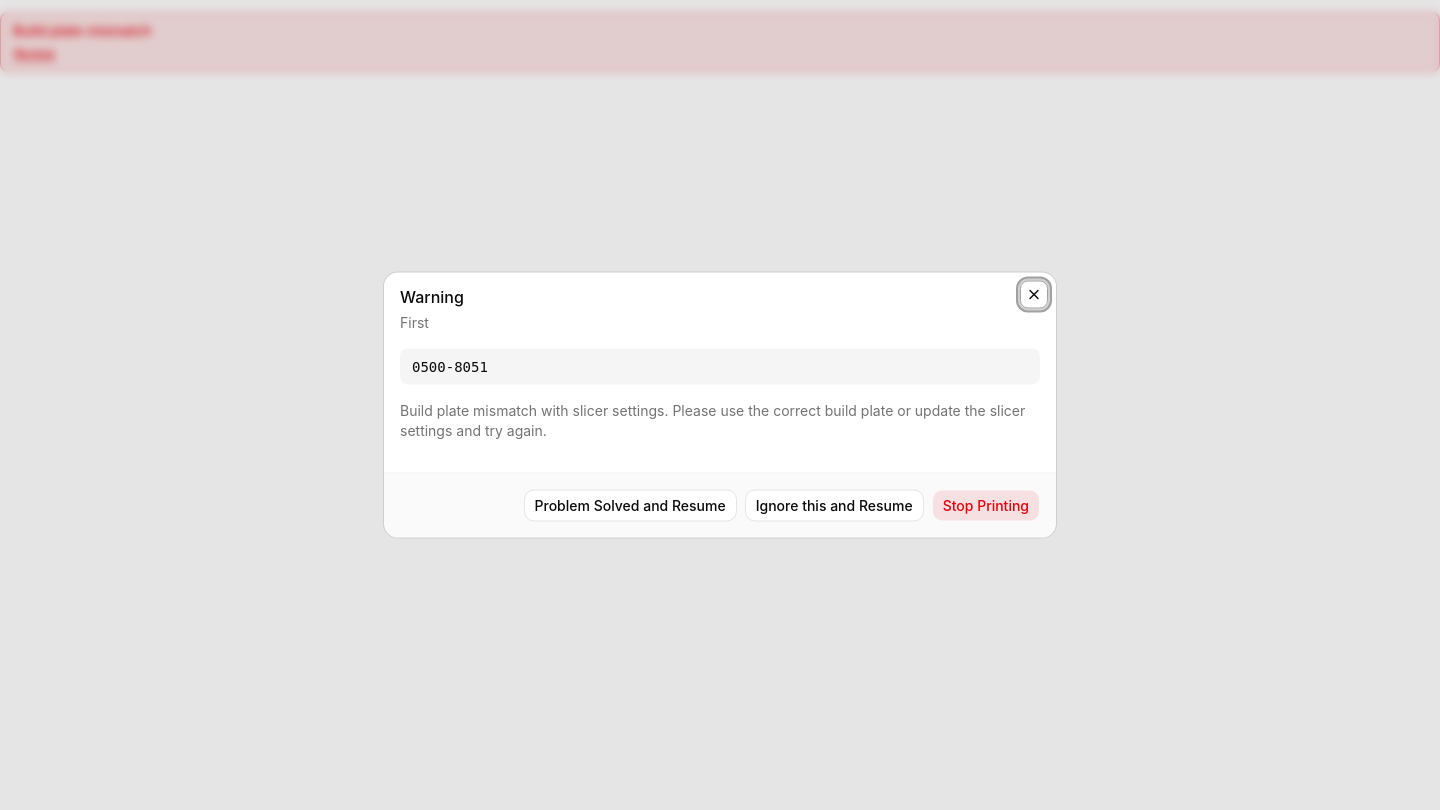
Test: PrinterMismatchCoordinator › deduplicates pending submission, sends only occurrence fields, and leaves the warning after sent
Click the button "Problem Solved and Resume".
click(630, 506)  # box [524,490,737,522]
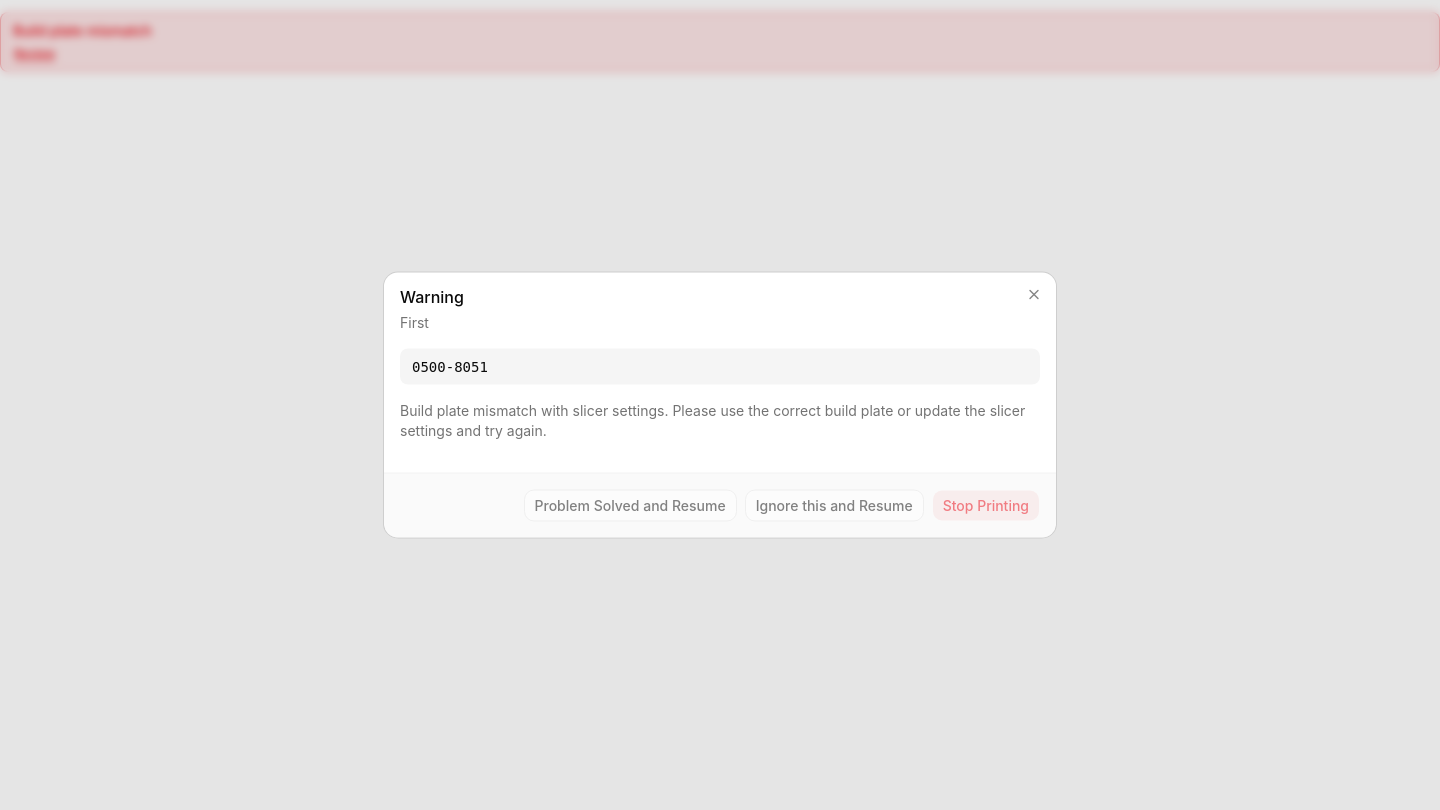
Now the button named "Close mismatch dialog" is disabled, box [1020,280,1048,308]
Now the button "Problem Solved and Resume" is disabled
Now the button "Ignore this and Resume" is disabled, box [745,490,924,522]
Click the button "Problem Solved and Resume".
click(630, 506)  # box [524,490,737,522]
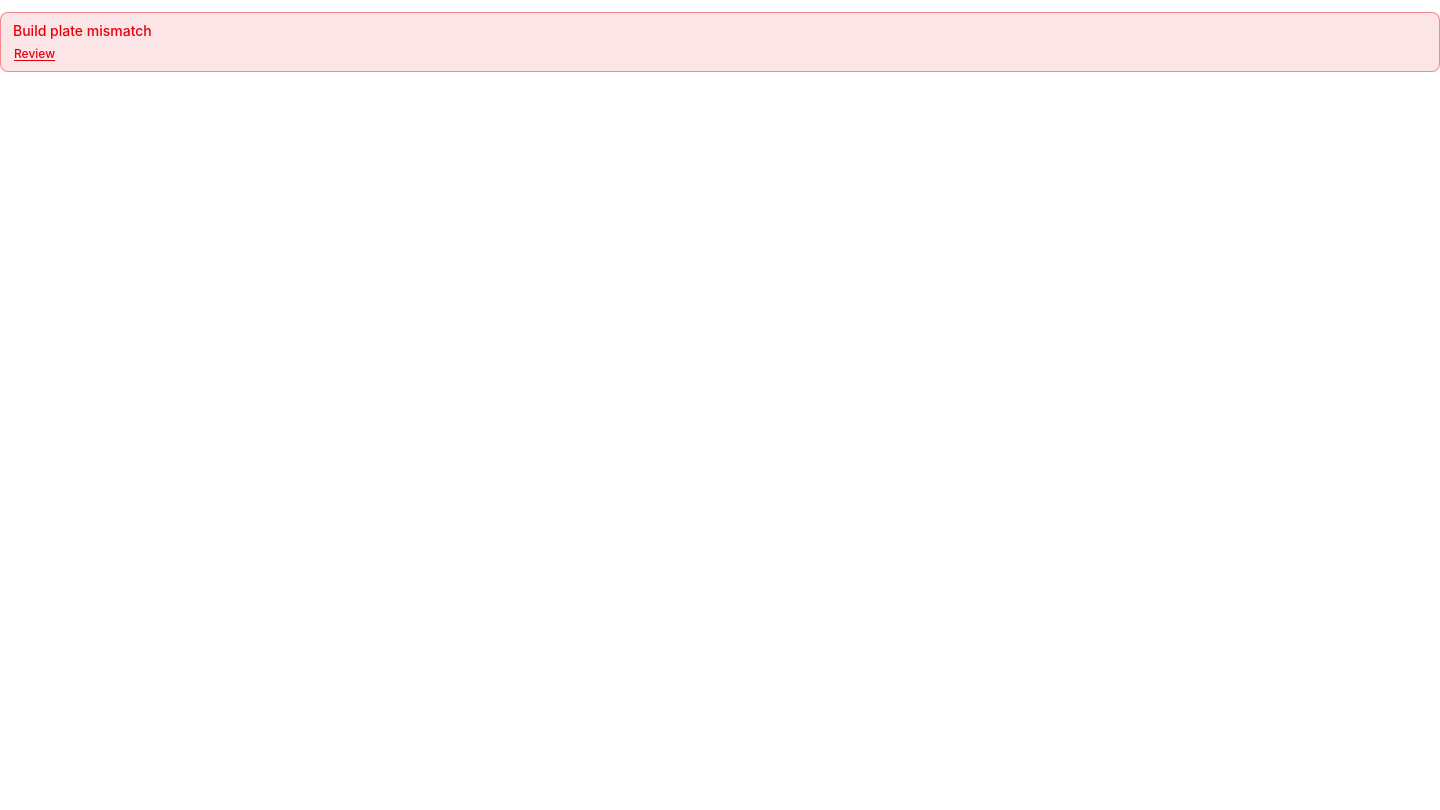
Expected: the button with aria-label "Review build plate mismatch for First" is shown, [13,45,56,63]
Now the dialog is gone
